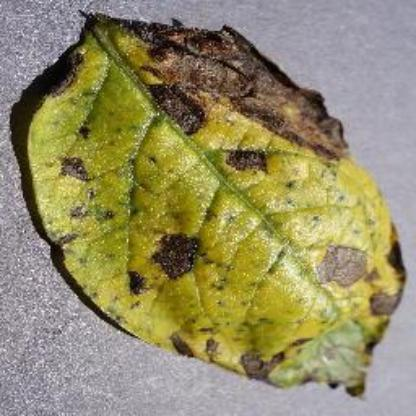Early-Blight: (24, 10, 409, 398)
